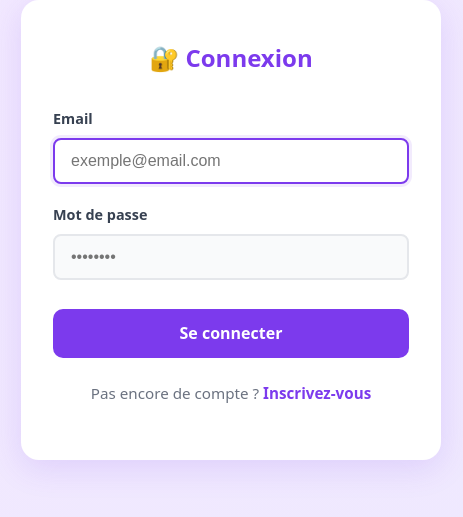
Test: Connexion — Validation des champs › doit afficher une erreur si le mot de passe est vide
Type "test@test.com" into the field with placeholder "exemple@email.com".
click(231, 161); type("test@test.com")  # box x1=53 y1=138 x2=409 y2=184
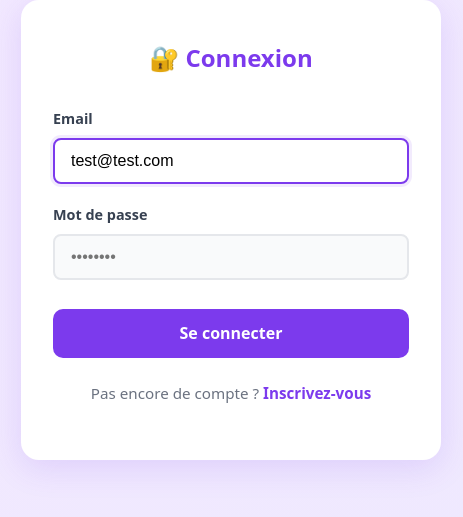
Click the button "Se connecter".
click(231, 333)  # box x1=53 y1=309 x2=409 y2=358
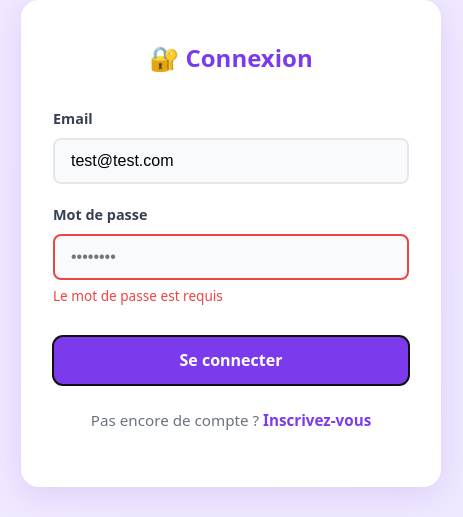
Now the text "Le mot de passe est requis" is shown, box x1=53 y1=286 x2=223 y2=305
